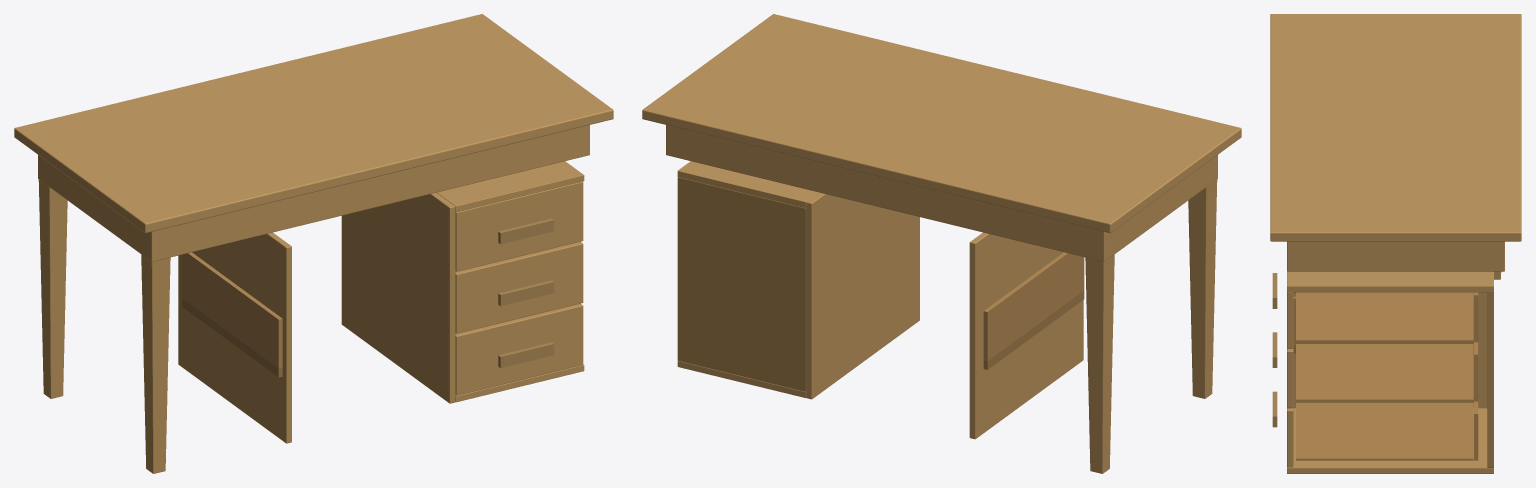
Rendered from Ashford_writing_desk.glb.
3 renders of one model, left to right at view 1: azimuth 30°, elevation 25°; view 2: azimuth 150°, elevation 25°; view 3: azimuth 270°, elevation 25°, orthographic. The views are drawn at different scales.
Parts seen in each view (by area): view 1: top, pedestal.side_1, apron.long_1, pedestal.side_2, drawer.front_1, drawer.front_2, drawer.front_3, drawer.side_2, leg_1, leg_2, pedestal.top, apron.short_1 (+5 smaller); view 2: top, pedestal.back, pedestal.side_1, apron.long_2, pedestal.side_2, leg_2, drawer.side_2, leg_1, apron.short_1, pedestal.top, drawer.runner_2, pedestal.bottom; view 3: top, drawer.base_1, drawer.base_2, drawer.base_3, apron.short_2, pedestal.top, pedestal.bottom, pedestal.side_1, pedestal.back, drawer.side_1, drawer.front_2, drawer.front_1 (+3 smaller).
Boxes of the visible parts, box(x1,y1,x2,y2) form: top: box(14, 14, 613, 233); pedestal.side_1: box(341, 192, 455, 403); apron.long_1: box(158, 126, 583, 260); pedestal.side_2: box(178, 232, 291, 443); drawer.front_1: box(455, 303, 583, 395); drawer.front_2: box(455, 241, 583, 333); drawer.front_3: box(455, 181, 583, 271); drawer.side_2: box(182, 252, 282, 368); leg_1: box(141, 254, 170, 473); leg_2: box(38, 179, 67, 398); pedestal.top: box(436, 161, 584, 212); apron.short_1: box(38, 155, 158, 261); top: box(642, 14, 1241, 233); pedestal.back: box(677, 177, 806, 391); pedestal.side_1: box(806, 192, 919, 399); apron.long_2: box(672, 126, 1097, 260); pedestal.side_2: box(969, 232, 1083, 439); leg_2: box(1085, 254, 1114, 473); drawer.side_2: box(983, 252, 1084, 360); leg_1: box(1188, 179, 1217, 398); apron.short_1: box(1097, 155, 1217, 261); pedestal.top: box(677, 161, 819, 207); drawer.runner_2: box(983, 291, 1084, 369); pedestal.bottom: box(677, 361, 806, 397); top: box(1270, 14, 1521, 241); drawer.base_1: box(1296, 403, 1473, 460); drawer.base_2: box(1296, 344, 1473, 401); drawer.base_3: box(1296, 292, 1473, 342); apron.short_2: box(1287, 241, 1504, 271); pedestal.top: box(1287, 271, 1493, 292); pedestal.bottom: box(1287, 408, 1493, 473); pedestal.side_1: box(1293, 292, 1487, 408); pedestal.back: box(1487, 292, 1493, 467); drawer.side_1: box(1293, 296, 1478, 345); drawer.front_2: box(1287, 348, 1293, 408); drawer.front_1: box(1287, 408, 1293, 467).
Bounding box in the file's own units: 1.4 × 0.75 × 0.68.
